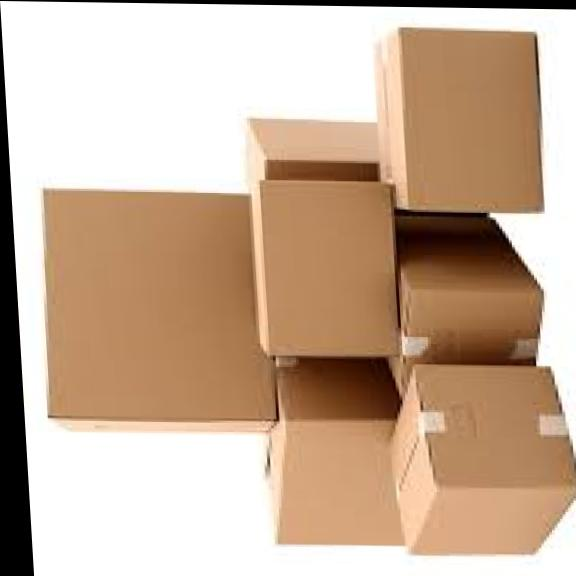Kertas: (382, 364, 576, 559), (368, 212, 554, 407), (367, 23, 550, 211), (379, 29, 539, 210), (249, 178, 402, 357), (240, 112, 376, 179)
